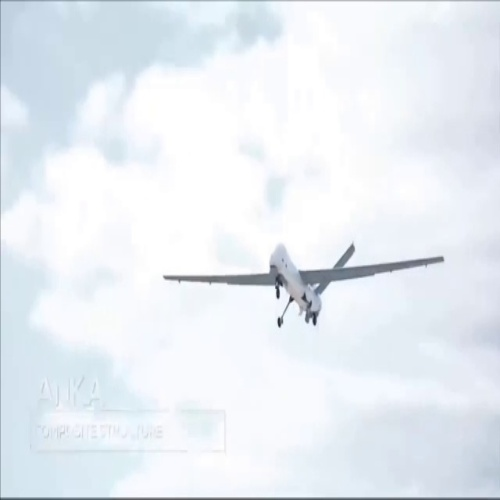uav806: (163, 238, 447, 331)
